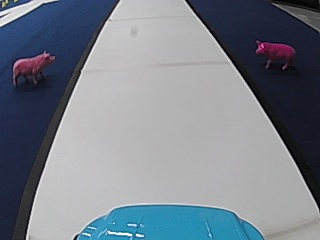pig: (11, 48, 54, 88), (252, 38, 296, 69)
